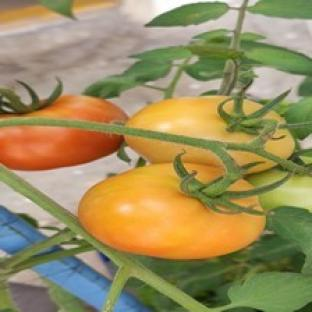Tomato: (78, 163, 264, 259), (126, 97, 254, 143), (0, 126, 122, 169), (260, 175, 311, 211)
